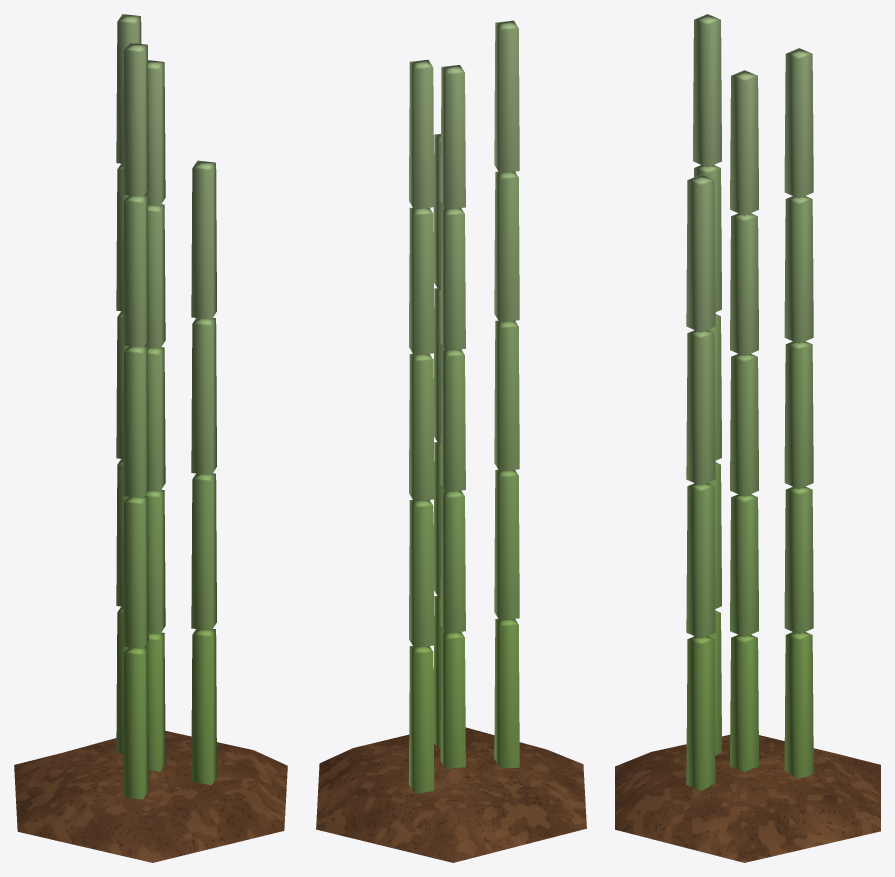
The model's file is plant-bamboo-3-far.glb.
The picture shows the model from 3 angles, left to right: view 1: azimuth 30°, elevation 25°; view 2: azimuth 150°, elevation 25°; view 3: azimuth 270°, elevation 25°; orthographic projection.
Parts seen in each view (by area): view 1: plant-bamboo-3-far; view 2: plant-bamboo-3-far; view 3: plant-bamboo-3-far.
Boxes of the visible parts, x1,y1,x2,y2 form: plant-bamboo-3-far: (14,14,287,862); plant-bamboo-3-far: (316,20,586,862); plant-bamboo-3-far: (615,14,880,862).
Size of the model in its own units: 0.84 by 2.3 by 0.7275.
Materials: 3 (1 with a texture image).
